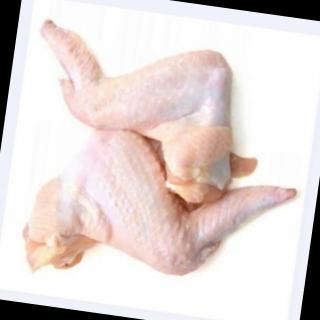Ayam: (19, 121, 303, 309), (19, 18, 249, 208)
